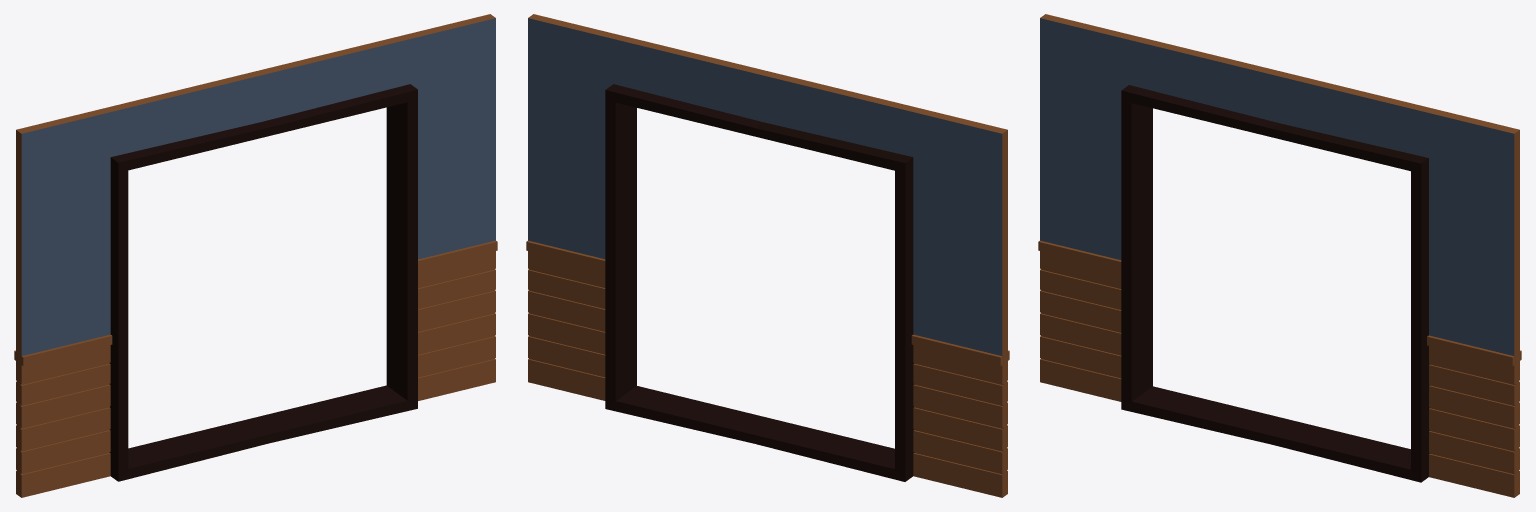
The model's file is ww_interior_door_b.glb.
3 views of the same model, side by side, from view 1: azimuth 30°, elevation 25°; view 2: azimuth 150°, elevation 25°; view 3: azimuth 330°, elevation 25° (orthographic).
Visible parts, largest first — view 1: Int_Door_B; view 2: Int_Door_B; view 3: Int_Door_B.
Part boxes in pixels (x1,y1,x2,y2): Int_Door_B: (14, 14, 497, 497); Int_Door_B: (526, 14, 1009, 497); Int_Door_B: (1038, 14, 1521, 497).
Size of the model in its own units: 4.8 by 3.52 by 0.3744.
